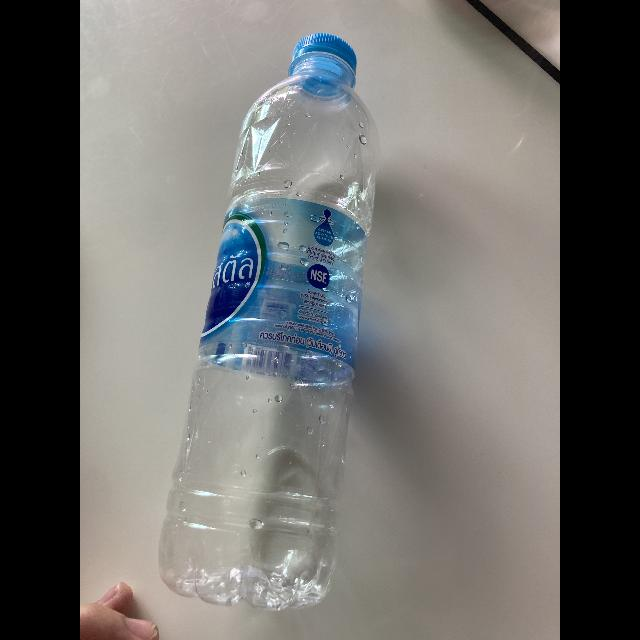plastic_bottle: (151, 30, 383, 610)
plastic_bottle_cap: (291, 33, 357, 101)
